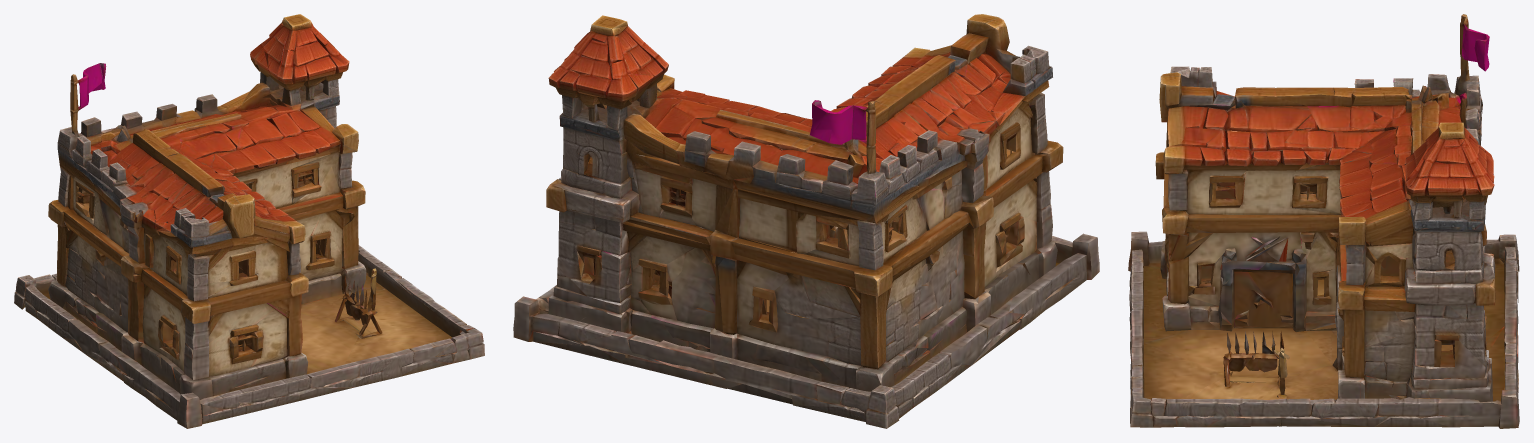
Rendered from barracks2.glb.
3 renders of one model, left to right at view 1: azimuth 30°, elevation 25°; view 2: azimuth 150°, elevation 25°; view 3: azimuth 270°, elevation 25°, orthographic. The views are drawn at different scales.
Visible parts, largest first — view 1: Mesh_0; view 2: Mesh_0; view 3: Mesh_0.
Boxes of the visible parts, x1,y1,x2,y2 form: Mesh_0: (14, 14, 484, 428); Mesh_0: (513, 14, 1099, 428); Mesh_0: (1128, 14, 1519, 428).
Size of the model in its own units: 1.91 by 1.48 by 1.9.
1 material, 1 textured.
